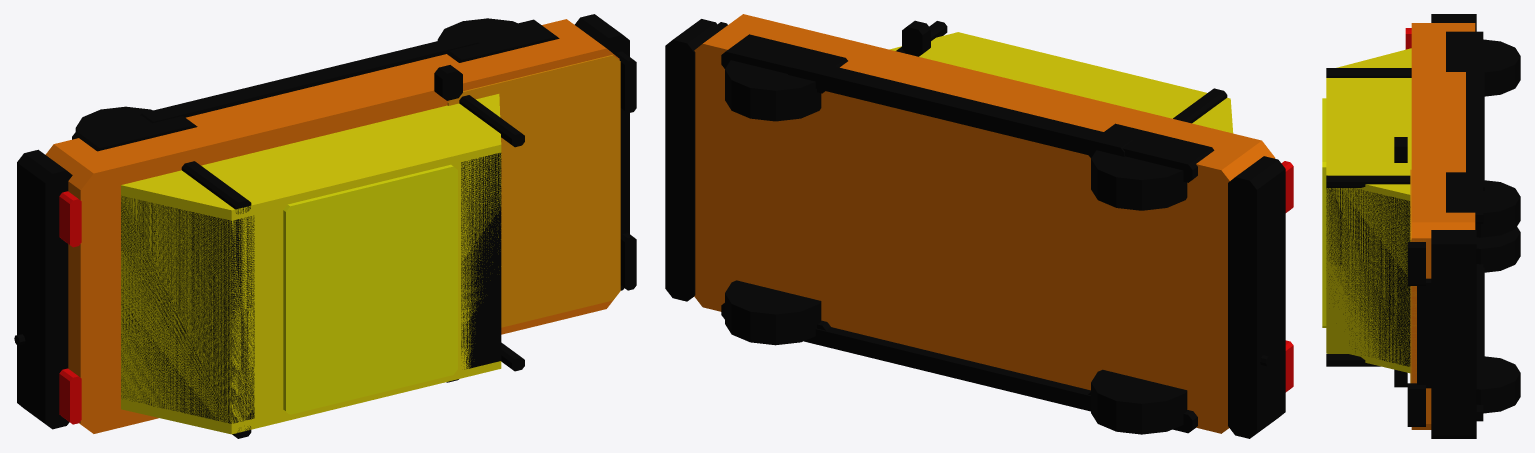
File: carhatchback-canonical.obj
3 views of the same model, side by side, from view 1: azimuth 30°, elevation 25°; view 2: azimuth 150°, elevation 25°; view 3: azimuth 270°, elevation 25° (orthographic). The views are drawn at different scales.
Visible parts, largest first — view 1: Cabin, RoofPanel, LowerBody, Hood, RearScreen, BumperRear, Windscreen, Sill_1, Arch_R_1, Arch_F_1, BumperFront, PillarC_1 (+9 smaller); view 2: LowerBody, BumperRear, Cabin, Sill_1, BumperFront, Sill_-1, Wheel_R_-1_Tyre, Wheel_F_-1_Tyre, Wheel_R_1_Tyre, Wheel_F_1_Tyre, Arch_R_1, Arch_F_1 (+2 smaller); view 3: Cabin, LowerBody, Windscreen, BumperFront, Sill_1, Wheel_F_-1_Tyre, Wheel_F_1_Tyre, Wheel_R_1_Tyre, Grille, Wheel_R_-1_Tyre, Arch_F_1, Arch_R_1 (+11 smaller).
Part boxes in pixels (<box>): Cabin: <box>121,94,501,434</box>; RoofPanel: <box>283,164,457,414</box>; LowerBody: <box>45,19,619,433</box>; Hood: <box>447,55,620,327</box>; RearScreen: <box>121,196,254,423</box>; BumperRear: <box>17,149,72,429</box>; Windscreen: <box>461,153,501,369</box>; Sill_1: <box>140,34,479,122</box>; Arch_R_1: <box>72,115,197,151</box>; Arch_F_1: <box>447,19,559,62</box>; BumperFront: <box>574,14,629,290</box>; PillarC_1: <box>181,161,251,214</box>; LowerBody: <box>694,14,1275,433</box>; BumperRear: <box>1228,156,1285,438</box>; Cabin: <box>889,32,1233,133</box>; Sill_1: <box>788,59,1133,156</box>; BumperFront: <box>665,19,721,301</box>; Sill_-1: <box>804,327,1090,411</box>; Wheel_R_-1_Tyre: <box>1091,369,1187,434</box>; Wheel_F_-1_Tyre: <box>725,280,821,345</box>; Wheel_R_1_Tyre: <box>1091,150,1187,210</box>; Wheel_F_1_Tyre: <box>725,60,821,121</box>; Arch_R_1: <box>1089,123,1214,182</box>; Arch_F_1: <box>721,34,847,93</box>; Cabin: <box>1326,48,1411,373</box>; LowerBody: <box>1411,23,1475,429</box>; Windscreen: <box>1326,188,1410,366</box>; BumperFront: <box>1431,230,1476,438</box>; Sill_1: <box>1466,56,1484,190</box>; Wheel_F_-1_Tyre: <box>1476,356,1520,413</box>; Wheel_F_1_Tyre: <box>1475,180,1520,237</box>; Wheel_R_1_Tyre: <box>1483,39,1520,96</box>; Grille: <box>1417,278,1431,388</box>; Wheel_R_-1_Tyre: <box>1476,227,1520,272</box>; Arch_F_1: <box>1446,172,1483,223</box>; Arch_R_1: <box>1446,31,1483,71</box>.
Size of the model in its own units: 408 by 204 by 149.
